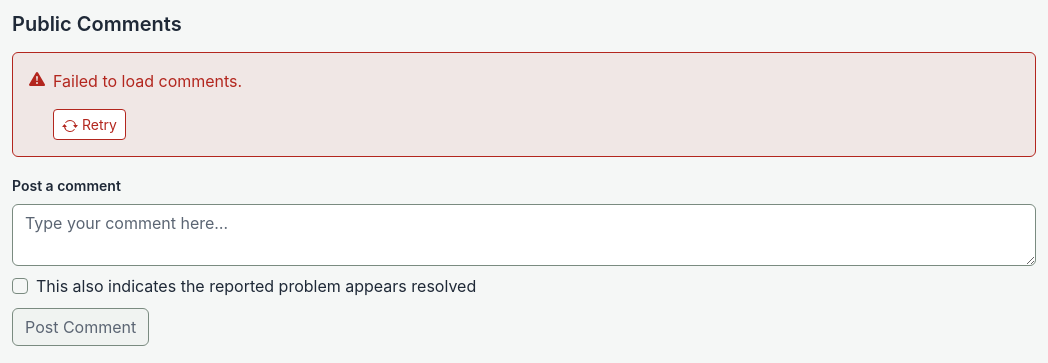
Test: CommentSection › shows an inline error with Retry when the comment list fetch fails
Expected: the message "Failed to load comments. Retry" is shown, [12, 52, 1036, 157]
Click the button "Retry" at (89, 124), box [53, 109, 126, 140]
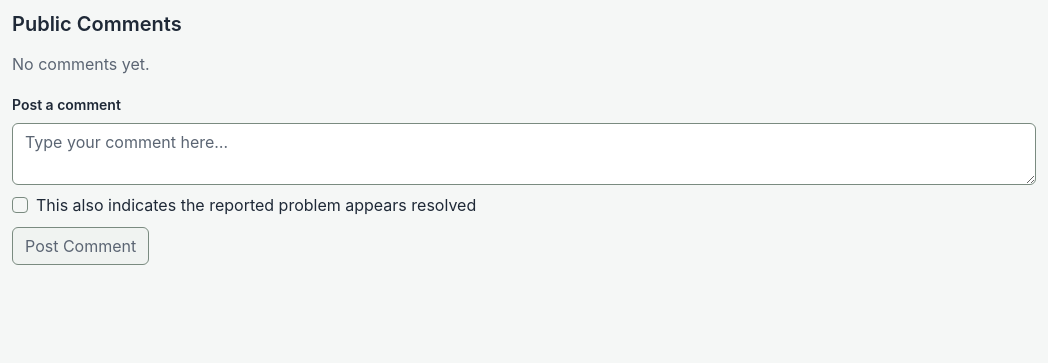
Expected: the text "No comments yet." is shown, [12, 54, 150, 74]
